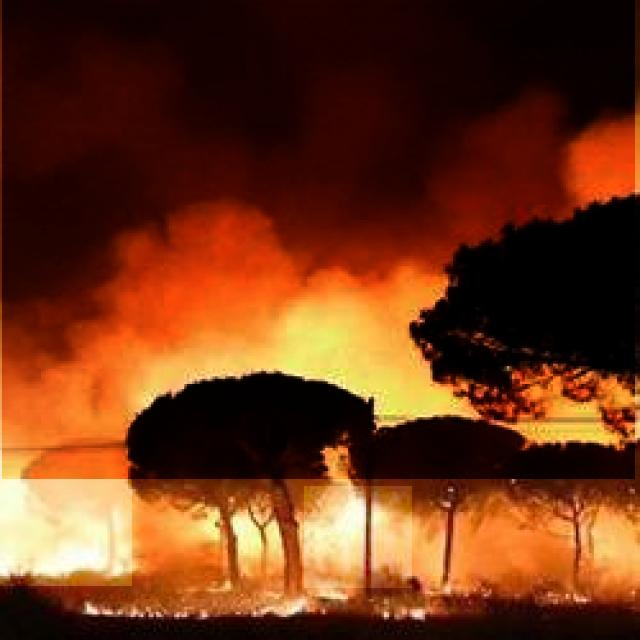Fire: (0, 450, 132, 586), (304, 486, 412, 588)
Smoke: (2, 0, 635, 479)
